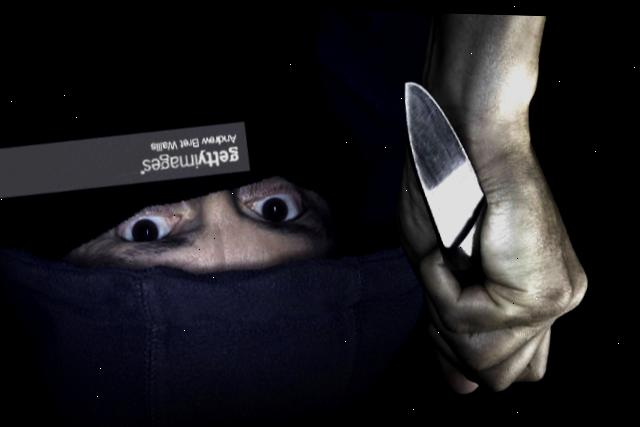pocket-knife: (382, 52, 560, 404)
